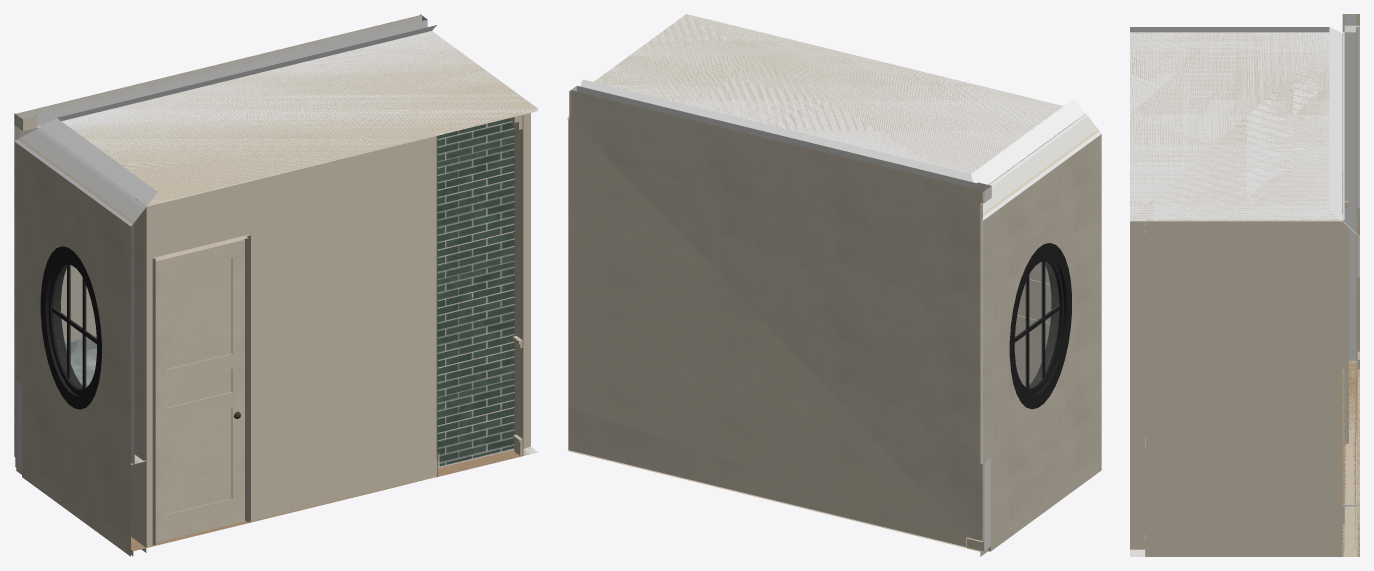
Rendered from green-bath-b05da358a6e6.glb.
3 renders of one model, left to right at view 1: azimuth 30°, elevation 25°; view 2: azimuth 150°, elevation 25°; view 3: azimuth 270°, elevation 25°, orthographic. The views are drawn at different scales.
Visible parts, largest first — view 1: green-bath-b6ab44e8ab2b63f4, green-bath-e8793759323e04f0, green-bath-9d91b47435c6fb33, green-bath-235bf0030923b7b8, green-bath-5e646f76b0244fe8, green-bath-312b4ac1be39223d, green-bath-33ee0b466567e5f0, green-bath-45debf23193247f8, green-bath-9a6873bb27e0e1d8, green-bath-8d8280a2b3ef8b4c, green-bath-3a4d9d62ecd7be1c, green-bath-39b94aca90fa4b53 (+7 smaller); view 2: green-bath-bd62734a7bc60eb7, green-bath-ca9c0b57f88e5741, green-bath-9d91b47435c6fb33, green-bath-e8793759323e04f0, green-bath-312b4ac1be39223d, green-bath-33ee0b466567e5f0, green-bath-45debf23193247f8, green-bath-9a6873bb27e0e1d8, green-bath-5e646f76b0244fe8, green-bath-39b94aca90fa4b53; view 3: green-bath-4fe5579be934d30a, green-bath-9d91b47435c6fb33, green-bath-e8793759323e04f0, green-bath-689020e0fc226264, green-bath-9a6873bb27e0e1d8, green-bath-39b94aca90fa4b53, green-bath-2575515a05775d9e, green-bath-7261ca91c9d343ad, green-bath-bd62734a7bc60eb7, green-bath-82fe871d7bda5383, green-bath-312b4ac1be39223d, green-bath-ca9c0b57f88e5741 (+2 smaller).
Part boxes in pixels (left/top/right/bottom): green-bath-b6ab44e8ab2b63f4: left=138, top=136, right=437, bottom=547; green-bath-e8793759323e04f0: left=42, top=25, right=538, bottom=204; green-bath-9d91b47435c6fb33: left=39, top=31, right=537, bottom=206; green-bath-235bf0030923b7b8: left=437, top=118, right=513, bottom=466; green-bath-5e646f76b0244fe8: left=155, top=239, right=244, bottom=542; green-bath-312b4ac1be39223d: left=14, top=125, right=133, bottom=464; green-bath-33ee0b466567e5f0: left=22, top=386, right=146, bottom=556; green-bath-45debf23193247f8: left=40, top=246, right=101, bottom=409; green-bath-9a6873bb27e0e1d8: left=16, top=15, right=427, bottom=471; green-bath-8d8280a2b3ef8b4c: left=515, top=109, right=538, bottom=455; green-bath-3a4d9d62ecd7be1c: left=35, top=127, right=146, bottom=460; green-bath-39b94aca90fa4b53: left=19, top=128, right=144, bottom=463; green-bath-bd62734a7bc60eb7: left=567, top=90, right=983, bottom=547; green-bath-ca9c0b57f88e5741: left=568, top=90, right=984, bottom=551; green-bath-9d91b47435c6fb33: left=594, top=14, right=1085, bottom=184; green-bath-e8793759323e04f0: left=580, top=14, right=1083, bottom=183; green-bath-312b4ac1be39223d: left=981, top=131, right=1101, bottom=463; green-bath-33ee0b466567e5f0: left=988, top=377, right=1101, bottom=551; green-bath-45debf23193247f8: left=1009, top=243, right=1071, bottom=409; green-bath-9a6873bb27e0e1d8: left=571, top=86, right=990, bottom=550; green-bath-5e646f76b0244fe8: left=988, top=163, right=1051, bottom=386; green-bath-39b94aca90fa4b53: left=982, top=116, right=1097, bottom=213; green-bath-4fe5579be934d30a: left=1145, top=214, right=1342, bottom=556; green-bath-9d91b47435c6fb33: left=1130, top=32, right=1342, bottom=221; green-bath-e8793759323e04f0: left=1130, top=27, right=1340, bottom=219; green-bath-689020e0fc226264: left=1130, top=221, right=1145, bottom=549; green-bath-9a6873bb27e0e1d8: left=1344, top=14, right=1355, bottom=556; green-bath-39b94aca90fa4b53: left=1344, top=28, right=1355, bottom=282; green-bath-2575515a05775d9e: left=1132, top=362, right=1359, bottom=556; green-bath-7261ca91c9d343ad: left=1344, top=201, right=1348, bottom=443; green-bath-bd62734a7bc60eb7: left=1357, top=14, right=1359, bottom=556; green-bath-82fe871d7bda5383: left=1342, top=14, right=1344, bottom=556; green-bath-312b4ac1be39223d: left=1357, top=26, right=1359, bottom=276; green-bath-ca9c0b57f88e5741: left=1356, top=14, right=1357, bottom=556.
Size of the model in its own units: 3.62 by 3.04 by 1.8.
Materials: 25 (7 with a texture image).
